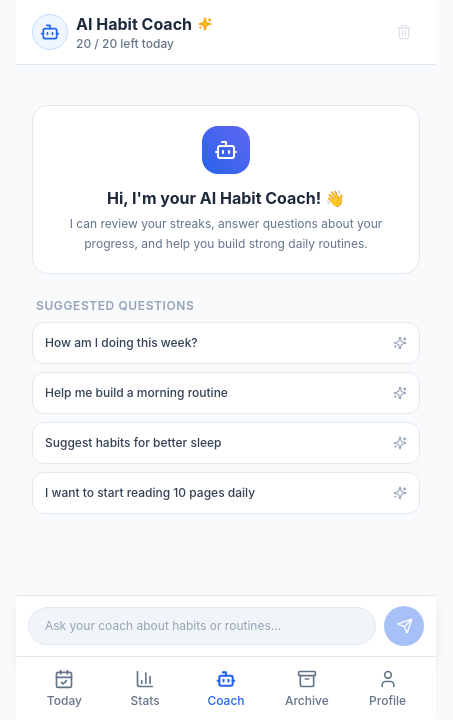
Test: CoachPage (Step 10.4) › sends custom message typed into input field
Type "I want to drink more water" into the field with placeholder "Ask your coach about habits or routines..." at {"x": 202, "y": 626}, box x1=28 y1=607 x2=376 y2=645
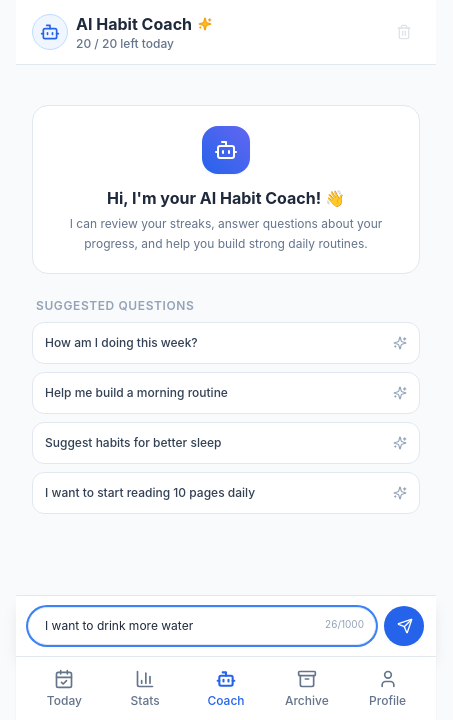
Expected: the button with test id "coach-send-button" is enabled
Click the button with test id "coach-send-button" at {"x": 404, "y": 626}, box x1=384 y1=606 x2=424 y2=646
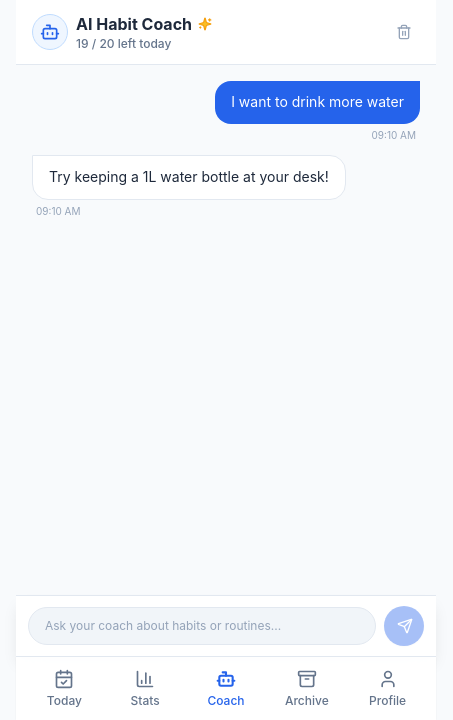
Expected: the text "Try keeping a 1L water bottle at your desk!" is shown, x1=49 y1=166 x2=329 y2=189
